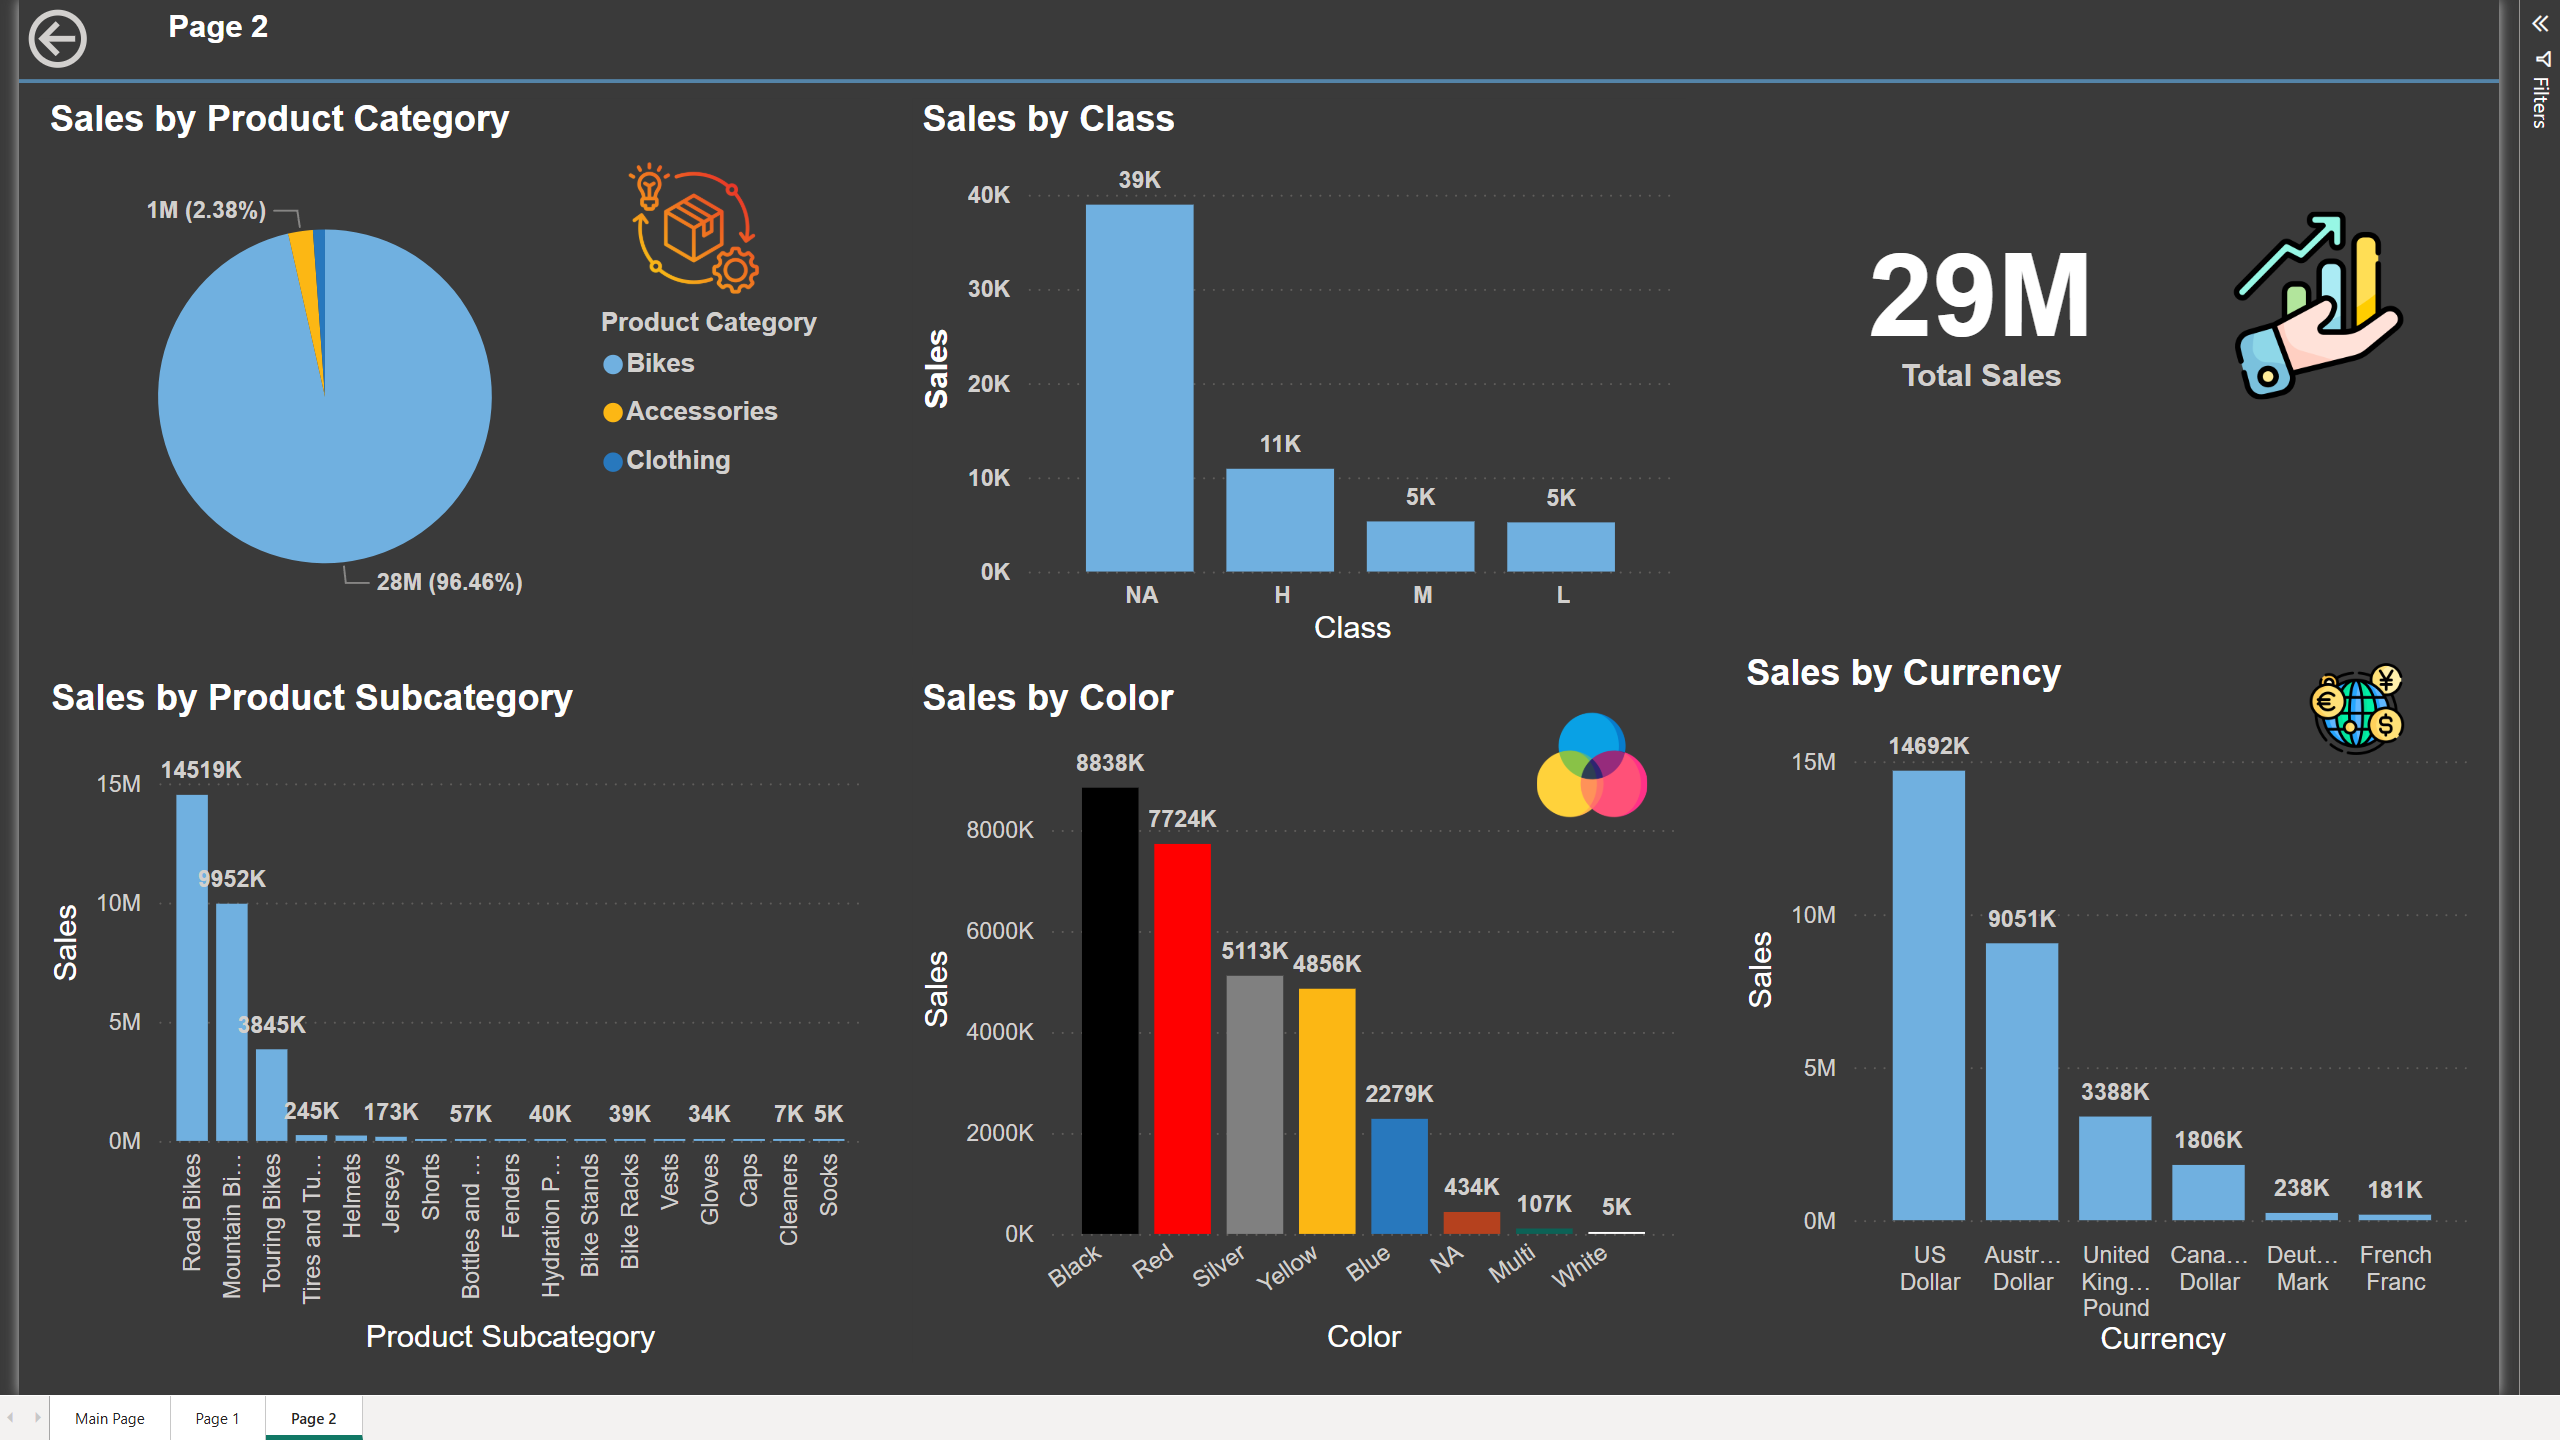

What the dashboard file says about the page in this screenshot:
{"tool":"powerbi","page":{"name":"Page 2","canvas":[1280,720],"ordinal":2},"visuals":[{"type":"pieChart","fields":{"Y":["Sum(FactInternetSales.SalesAmount)"],"Category":["DimProductCategory.EnglishProductCategoryName"]},"box":[10.7,50.7,428.3,286.8],"z":0},{"type":"columnChart","fields":{"Category":["DimProduct.Color"],"Y":["Sum(FactInternetSales.SalesAmount)"]},"box":[461.4,349.9,398.7,354],"z":1000},{"type":"columnChart","fields":{"Category":["DimProductSubcategory.EnglishProductSubcategoryName"],"Y":["Sum(FactInternetSales.SalesAmount)"]},"box":[11.4,349.9,428,354],"z":2000},{"type":"columnChart","fields":{"Category":["DimProduct.Class"],"Y":["CountNonNull(FactInternetSales.SalesAmount)"]},"box":[461.5,50.7,399,286.8],"z":3000},{"type":"card","fields":{"Values":["Sum(FactInternetSales.SalesAmount)"]},"box":[939.5,103.4,147.3,106.3],"z":4000},{"type":"columnChart","fields":{"Category":["DimCurrency.CurrencyName"],"Y":["Sum(FactInternetSales.SalesAmount)"]},"box":[886.2,336.9,384.1,367.8],"z":5000},{"type":"image","box":[778.5,360,66.3,70.2],"z":6000},{"type":"image","box":[1103.4,104.4,166.8,106.3],"z":7000},{"type":"image","box":[307.3,78,82.9,79],"z":8000},{"type":"image","box":[1144.1,336.9,126.1,58.6],"z":9000},{"type":"shape","box":[0,0,1280.2,83.7],"z":10000},{"type":"actionButton","box":[0,0,99.5,40],"z":11000},{"type":"textbox","box":[49.8,0,106.3,40],"z":12000}]}

Visuals, with their boxes on the page's 1280x720 design canvas (x1, y1, x2, y2). These are canvas units, not pixel positions in the 2560x1440 screenshot, which may show the page scaled, cropped or inside an application window:
pieChart - Sum(FactInternetSales.SalesAmount) x DimProductCategory.EnglishProductCategoryName: BBox(11, 51, 439, 338)
columnChart - DimProduct.Color x Sum(FactInternetSales.SalesAmount): BBox(461, 350, 860, 704)
columnChart - DimProductSubcategory.EnglishProductSubcategoryName x Sum(FactInternetSales.SalesAmount): BBox(11, 350, 439, 704)
columnChart - DimProduct.Class x CountNonNull(FactInternetSales.SalesAmount): BBox(462, 51, 860, 338)
card - Sum(FactInternetSales.SalesAmount): BBox(940, 103, 1087, 210)
columnChart - DimCurrency.CurrencyName x Sum(FactInternetSales.SalesAmount): BBox(886, 337, 1270, 705)
image: BBox(778, 360, 845, 430)
image: BBox(1103, 104, 1270, 211)
image: BBox(307, 78, 390, 157)
image: BBox(1144, 337, 1270, 396)
shape: BBox(0, 0, 1280, 84)
actionButton: BBox(0, 0, 100, 40)
textbox: BBox(50, 0, 156, 40)
